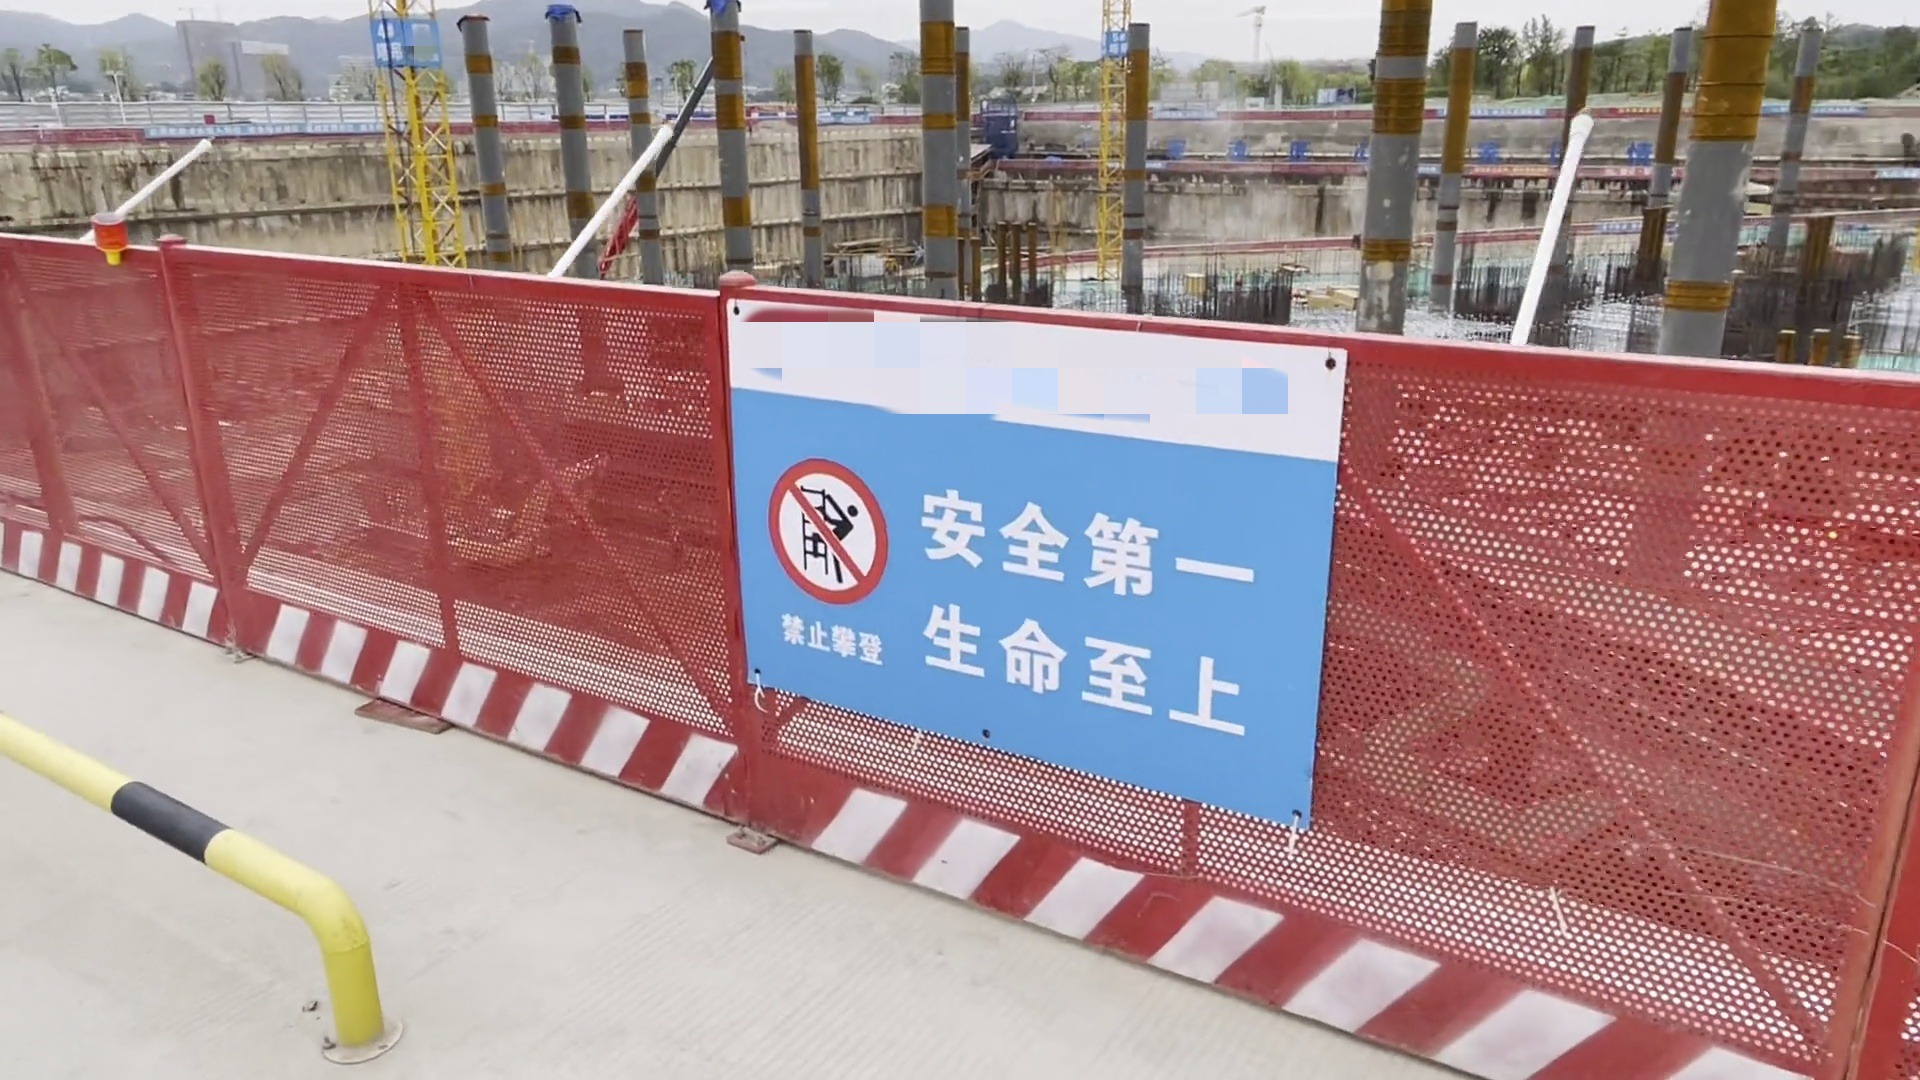fence: (13, 287, 1920, 1065)
slogan: (735, 331, 1329, 844), (149, 117, 418, 144), (1168, 133, 1382, 161), (367, 17, 402, 67), (1102, 32, 1134, 53)
